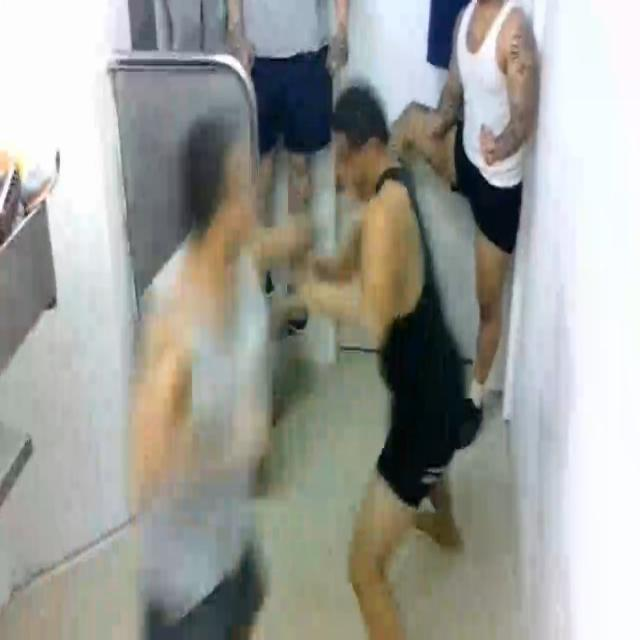fight: (112, 79, 480, 602)
